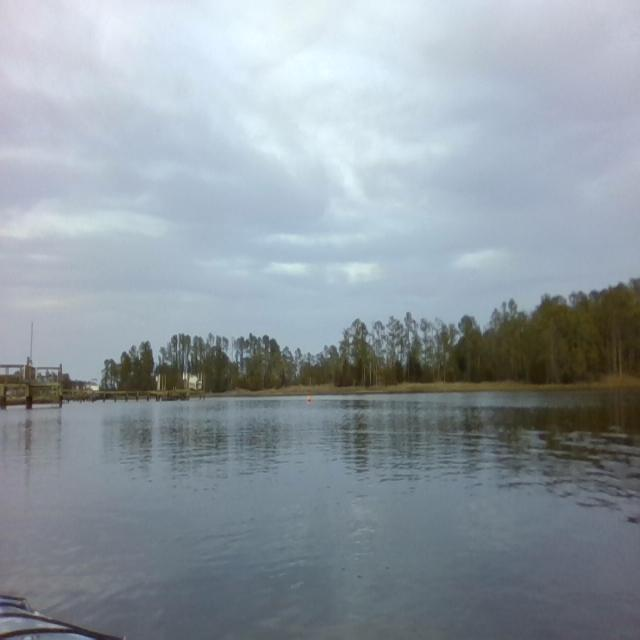Buoy: (306, 392, 313, 404)
